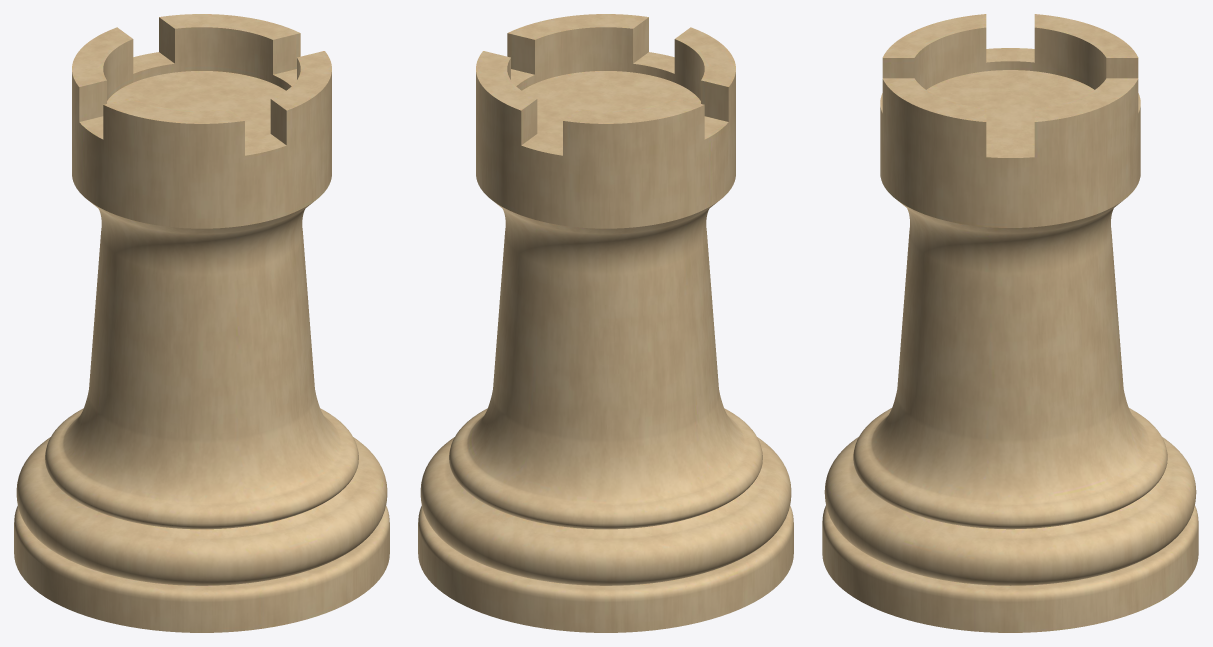
The model's file is turm_weiss.glb.
The picture shows the model from 3 angles, left to right: view 1: azimuth 30°, elevation 25°; view 2: azimuth 150°, elevation 25°; view 3: azimuth 270°, elevation 25°; orthographic projection.
Parts seen in each view (by area): view 1: turm_weiss; view 2: turm_weiss; view 3: turm_weiss.
Part boxes in pixels (<box>): turm_weiss: <box>14,14,389,632</box>; turm_weiss: <box>418,14,793,632</box>; turm_weiss: <box>822,14,1198,632</box>.
Bounding box in the file's own units: 0.78 × 1.11 × 0.78.
Materials: 1 (1 with a texture image).
